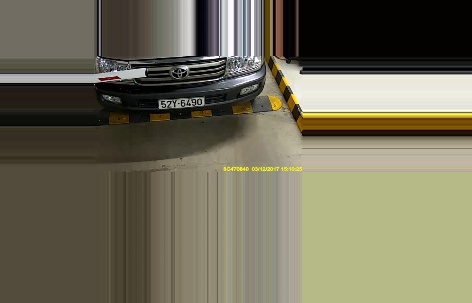plate: (156, 96, 206, 109)
